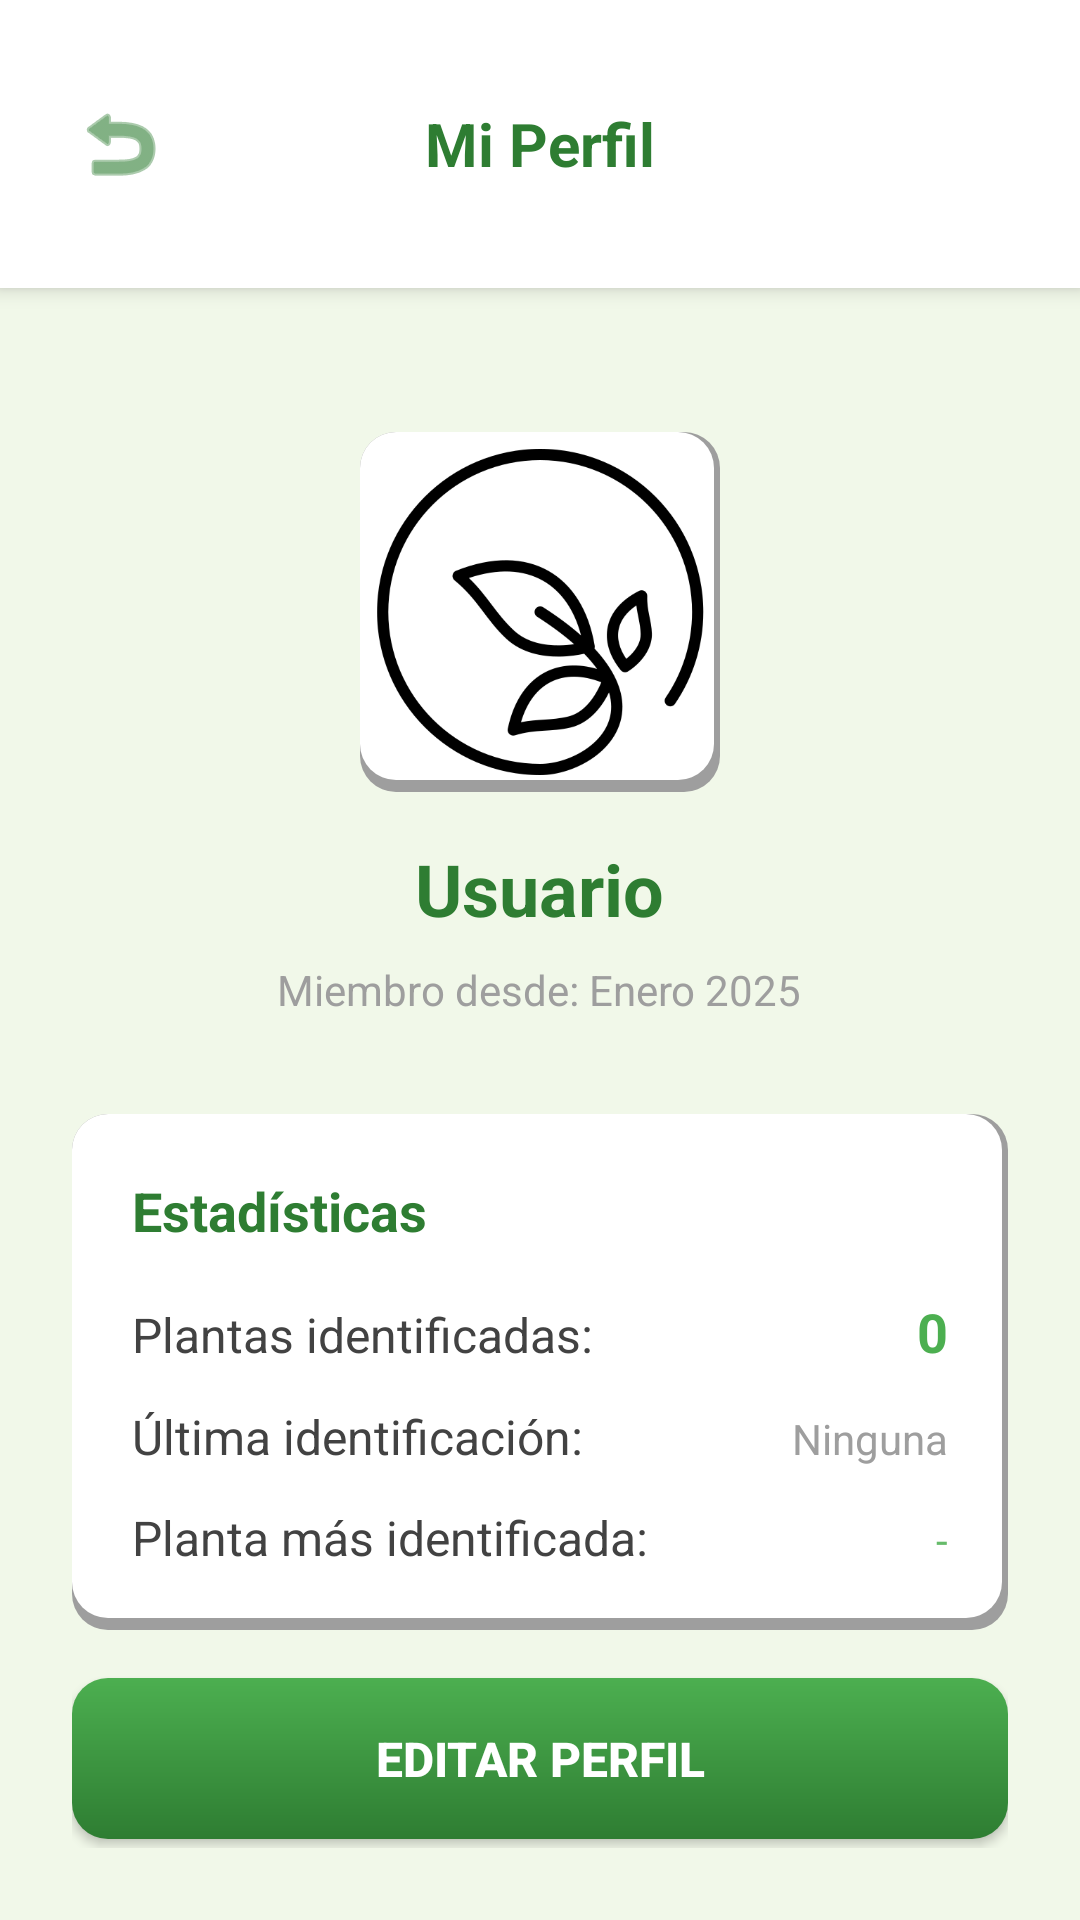

Icon click points for this 1080 × 1920 phone screenshot, format [x,y]:
Regresar: [121,144]
